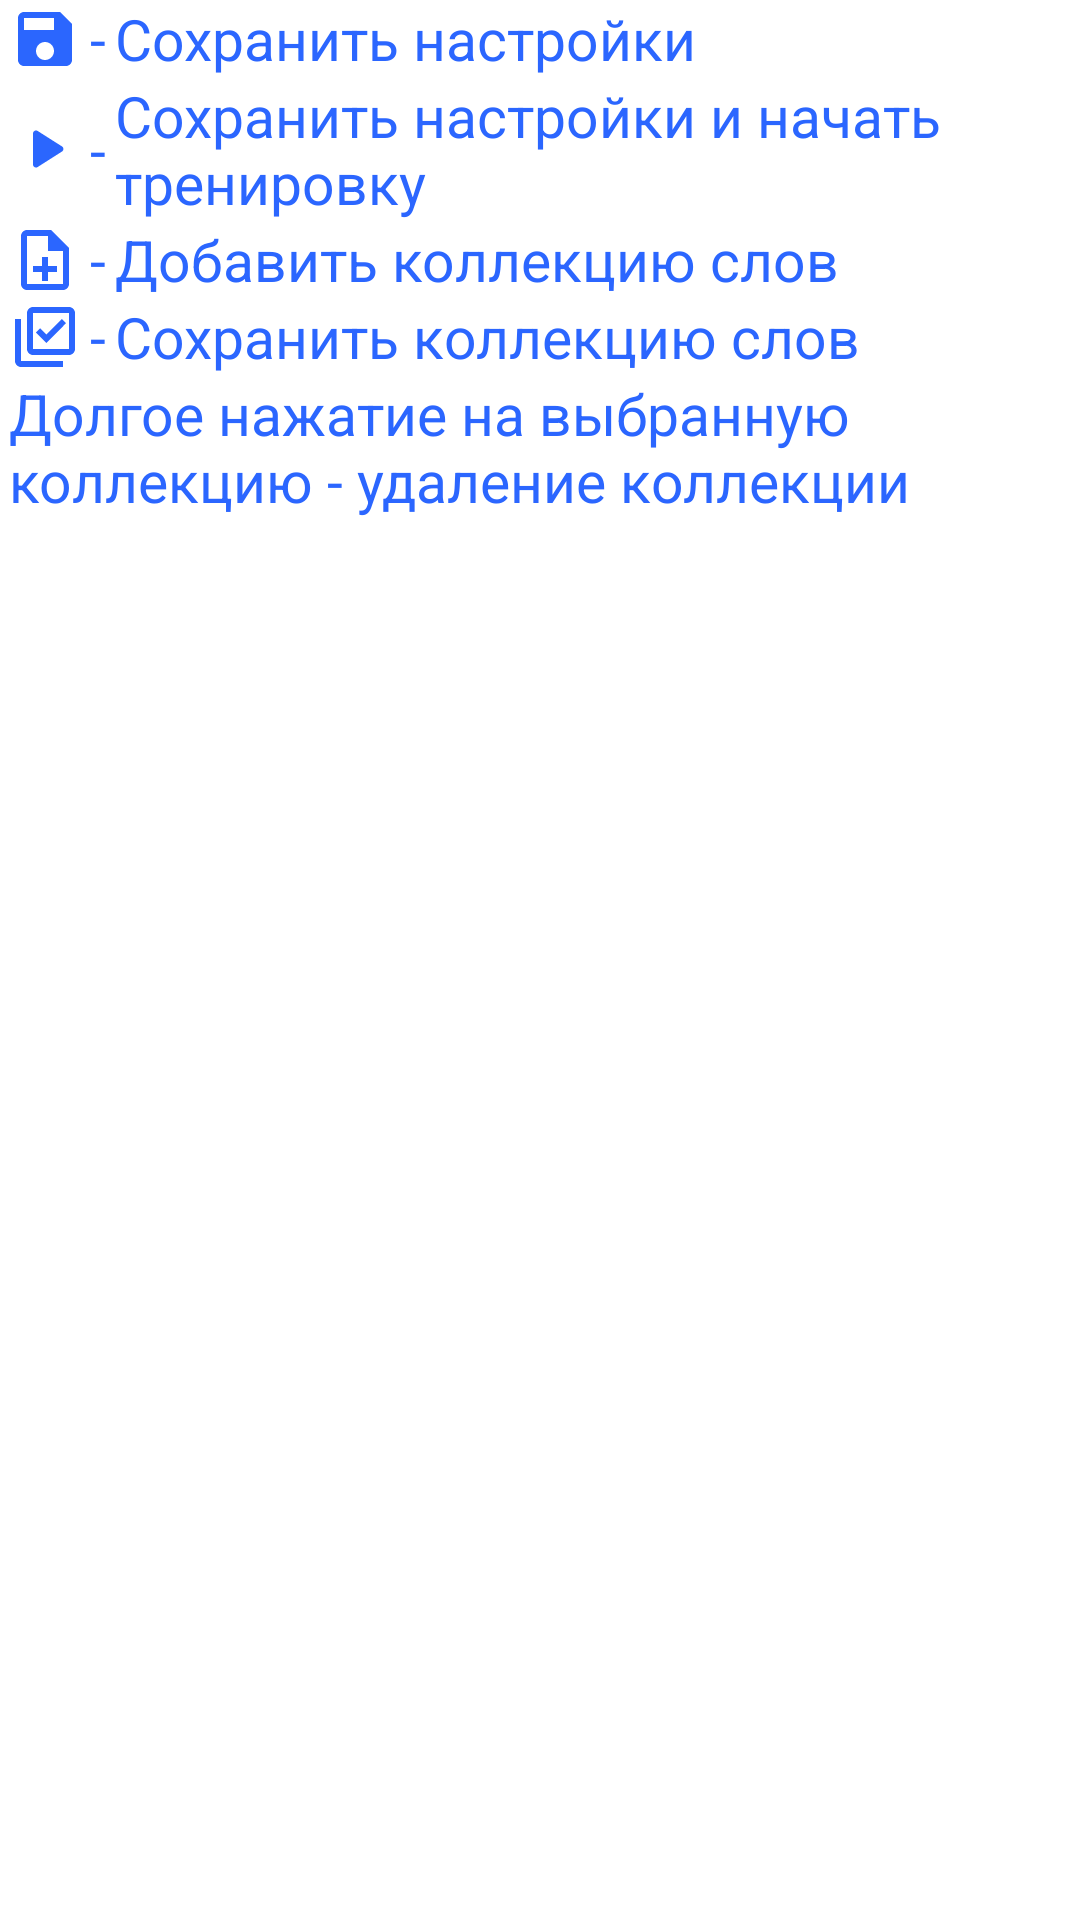

Where to tap for icons on this 1080×1920 app screen, as point (x, y):
library add check: point (45, 337)
note add: point (45, 260)
play arrow: point (48, 149)
